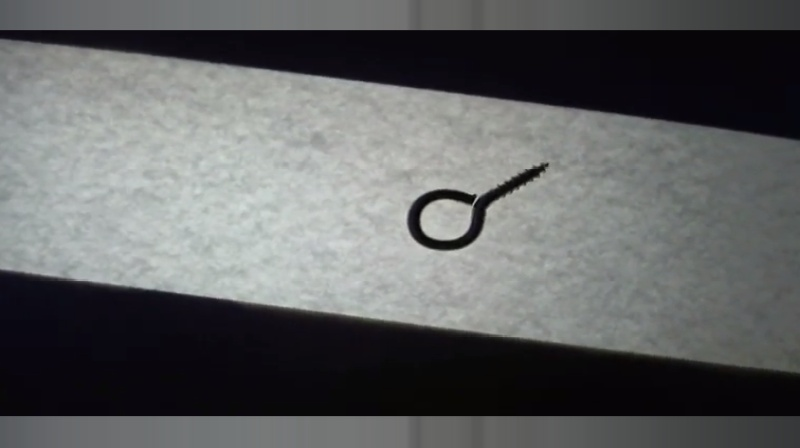O001: (404, 156, 550, 253)
